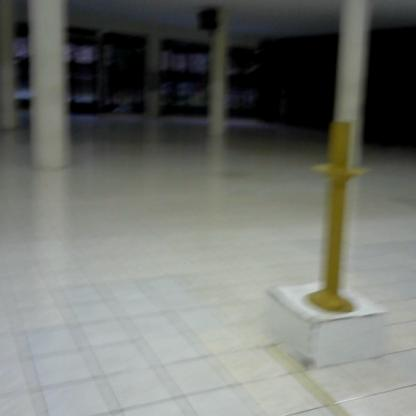pole: (303, 112, 378, 323)
